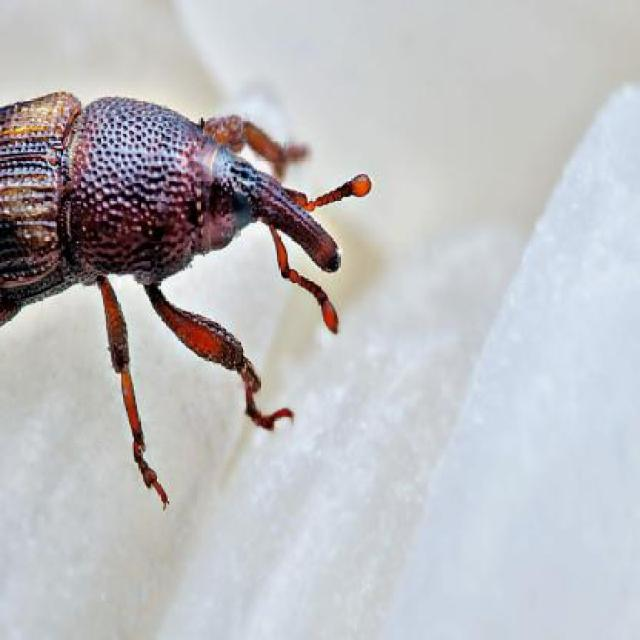rice-bug: (0, 90, 349, 428)
